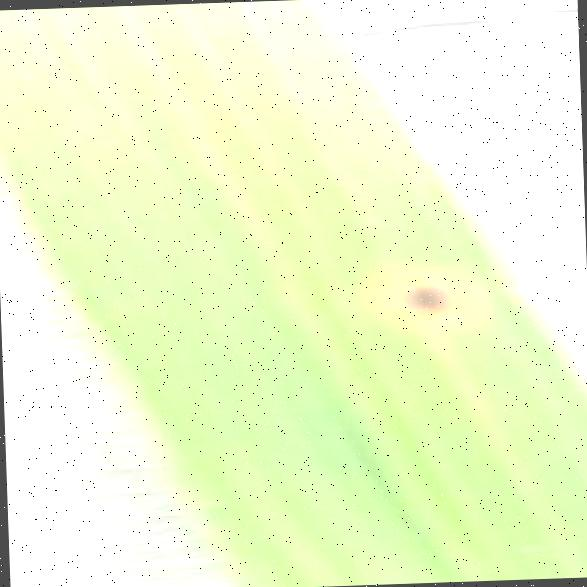Brown_Spot: (355, 248, 479, 340)
